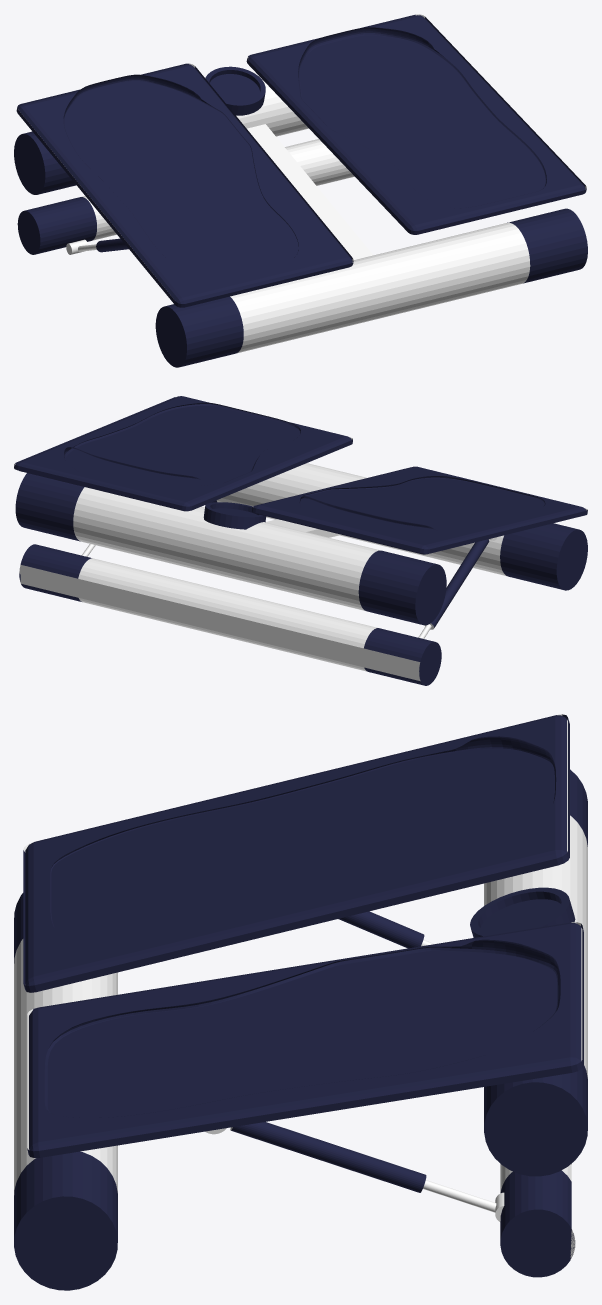
Rendered from stepper.fbx.
3 views of the same model, one above another, from view 1: azimuth 30°, elevation 25°; view 2: azimuth 150°, elevation 25°; view 3: azimuth 270°, elevation 25° (orthographic). The views are drawn at different scales.
Visible parts, largest first — view 1: feet left, Cylinder, feet right; view 2: Cylinder, feet right, feet left; view 3: feet right, feet left, Cylinder.
Part boxes in pixels (x1,y1,x2,y2): feet left: (16,63,353,307); Cylinder: (14,66,587,367); feet right: (246,14,586,234); Cylinder: (15,463,587,685); feet right: (14,396,352,556); feet left: (252,466,587,638); feet right: (27,922,583,1221); feet left: (23,714,569,992); Cylinder: (14,769,587,1290).
Size of the model in its own units: 48.29 by 17.75 by 35.16.
